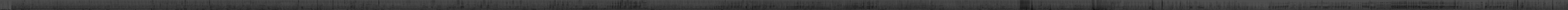Moan: (633, 0, 637, 10), (745, 0, 749, 10), (1405, 0, 1408, 10), (619, 0, 621, 10)
